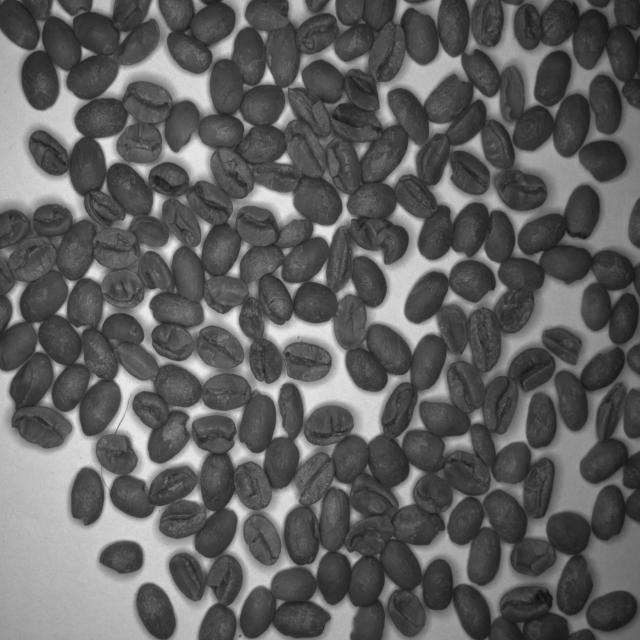bad: (10, 404, 73, 452), (422, 71, 474, 127), (5, 351, 54, 410), (264, 16, 301, 90), (284, 118, 328, 180), (416, 198, 456, 266), (367, 17, 407, 84), (484, 485, 528, 545), (350, 472, 400, 524), (402, 270, 450, 324), (391, 503, 445, 551), (494, 167, 548, 214), (272, 597, 331, 640), (64, 54, 120, 99), (539, 242, 596, 286), (186, 177, 236, 227), (556, 551, 594, 616), (287, 84, 331, 140), (480, 373, 519, 436), (194, 324, 244, 373), (284, 501, 320, 569), (70, 461, 106, 529), (121, 79, 174, 125), (278, 236, 331, 282), (330, 100, 384, 145), (231, 458, 274, 514), (239, 389, 276, 454), (508, 345, 558, 393), (442, 449, 492, 497), (294, 450, 336, 507), (280, 338, 332, 384), (400, 6, 439, 67), (554, 368, 590, 434), (8, 234, 57, 282), (240, 512, 282, 568), (147, 408, 190, 462), (79, 326, 119, 384), (587, 72, 625, 133), (450, 200, 489, 259), (380, 381, 419, 440), (446, 148, 492, 198), (508, 534, 558, 580), (498, 584, 554, 625), (160, 196, 203, 249), (579, 346, 627, 393), (401, 425, 448, 473), (578, 139, 628, 184), (92, 226, 142, 271), (447, 259, 497, 304), (468, 306, 502, 372), (318, 486, 351, 554), (326, 135, 362, 197), (116, 18, 162, 66), (343, 516, 398, 556), (158, 498, 208, 542), (420, 397, 471, 440), (66, 274, 105, 330), (522, 455, 556, 519), (164, 96, 202, 153), (148, 291, 205, 329), (205, 552, 245, 606), (394, 171, 438, 220), (563, 183, 600, 241), (446, 360, 485, 415), (147, 464, 198, 506), (460, 47, 501, 99), (114, 120, 162, 164), (444, 97, 488, 145), (108, 474, 156, 518), (414, 131, 451, 188), (590, 484, 625, 544), (265, 434, 301, 492), (594, 379, 626, 444), (334, 292, 368, 353), (114, 338, 160, 383), (28, 127, 70, 176), (387, 588, 428, 638), (304, 405, 354, 446), (482, 116, 518, 172), (257, 272, 293, 328), (494, 286, 536, 334), (200, 373, 253, 411), (169, 550, 206, 604), (540, 322, 584, 367), (294, 12, 340, 55), (239, 122, 286, 164), (100, 268, 147, 310), (203, 274, 250, 316), (190, 414, 237, 456), (83, 188, 127, 232), (235, 202, 279, 246), (95, 432, 139, 476), (238, 244, 286, 284), (482, 208, 516, 264), (302, 59, 344, 104), (327, 224, 354, 294), (436, 303, 471, 357), (150, 321, 195, 363), (541, 1, 580, 49), (348, 213, 394, 253), (412, 469, 452, 515), (491, 441, 531, 486), (277, 381, 306, 443), (344, 67, 382, 113), (252, 160, 300, 196), (138, 250, 174, 298), (96, 539, 144, 575), (471, 0, 505, 49), (242, 0, 292, 33), (248, 338, 283, 385), (132, 387, 168, 431), (499, 66, 526, 124), (149, 159, 189, 198), (102, 310, 145, 346), (374, 224, 411, 265), (348, 599, 385, 640), (128, 213, 170, 248), (468, 420, 497, 470), (513, 4, 543, 52), (110, 0, 152, 33), (33, 202, 73, 236), (0, 205, 31, 248), (237, 295, 266, 340), (275, 217, 315, 249), (623, 386, 640, 442), (621, 446, 640, 490)
good: (358, 123, 410, 185), (105, 161, 153, 219), (552, 89, 591, 160), (292, 173, 344, 226), (386, 85, 431, 146), (19, 48, 60, 114), (18, 269, 68, 323), (364, 320, 412, 376), (137, 577, 179, 640), (78, 377, 122, 437), (34, 313, 82, 366), (57, 219, 98, 281), (452, 579, 493, 640), (368, 432, 411, 490), (67, 134, 107, 196), (572, 6, 610, 71), (533, 46, 573, 107), (510, 102, 555, 156), (209, 148, 255, 200), (585, 588, 637, 634), (74, 95, 128, 139), (200, 221, 242, 277), (151, 363, 203, 408), (195, 504, 238, 558), (42, 14, 82, 72), (544, 507, 592, 555), (71, 10, 121, 56), (466, 524, 503, 586), (230, 26, 268, 86), (410, 331, 448, 391), (165, 28, 213, 75), (578, 437, 628, 482), (292, 280, 338, 328), (199, 451, 236, 510), (352, 254, 390, 311), (189, 1, 236, 47), (516, 212, 566, 255), (238, 584, 277, 639), (436, 0, 472, 59), (344, 344, 388, 392), (348, 554, 386, 609), (0, 0, 40, 52), (172, 243, 205, 306), (239, 82, 286, 126), (446, 494, 485, 547), (50, 361, 90, 412), (208, 58, 243, 116), (0, 320, 39, 372), (590, 245, 635, 290), (383, 546, 424, 595), (524, 391, 558, 449), (331, 432, 370, 481), (607, 23, 639, 82), (607, 289, 640, 346), (346, 182, 396, 219), (270, 565, 317, 604), (318, 548, 350, 605), (198, 112, 245, 150), (420, 557, 453, 611), (497, 256, 545, 293), (580, 282, 612, 334), (196, 601, 238, 640), (335, 23, 374, 63), (521, 608, 569, 640), (157, 0, 196, 33), (361, 0, 398, 32), (488, 614, 523, 640), (333, 0, 366, 27)
